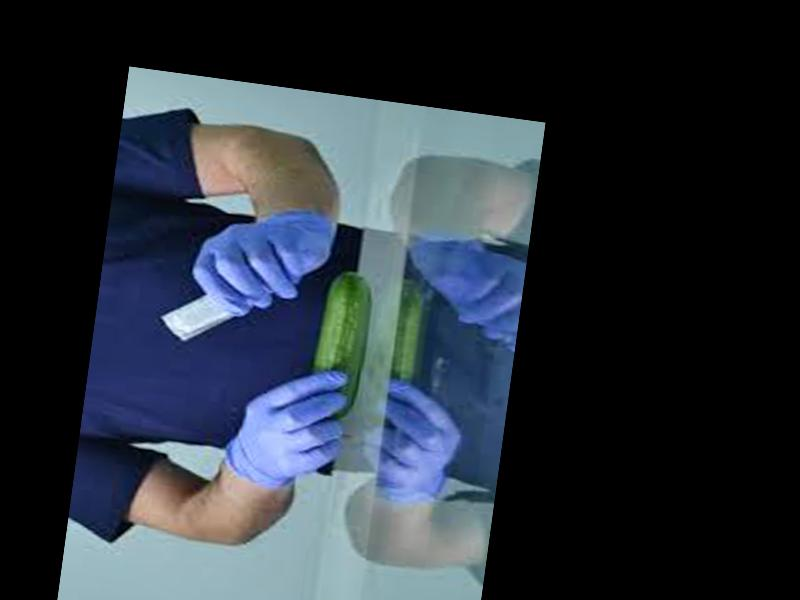Cucumber: (307, 267, 376, 420)
